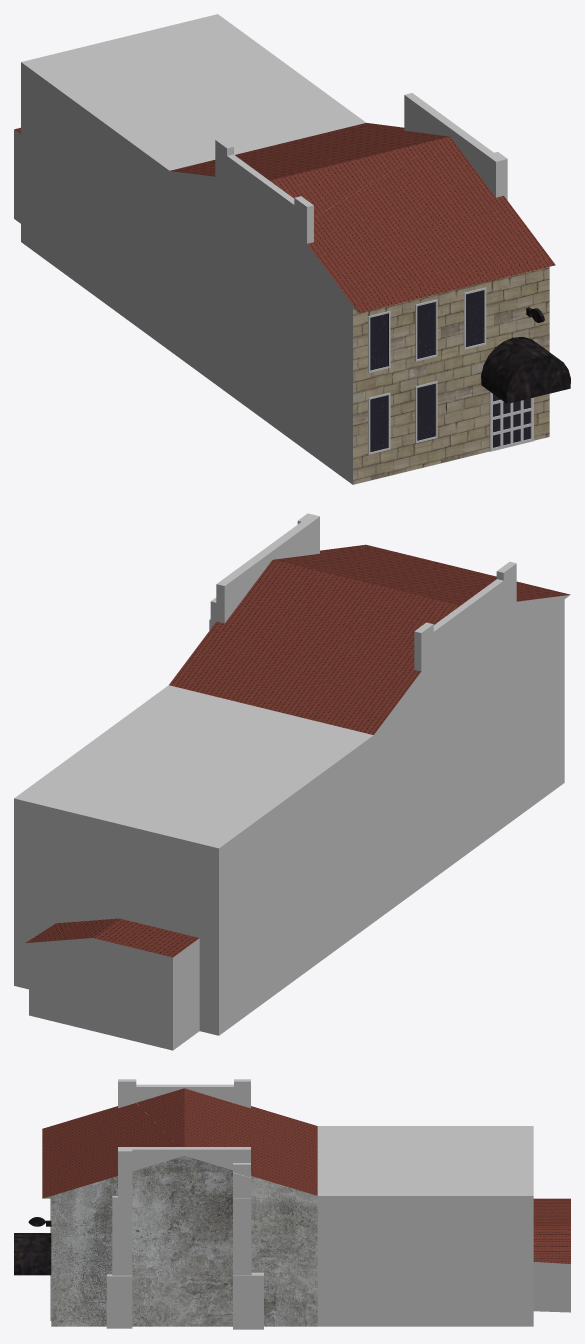
The model's file is 20 Augusta St, Hamilton, ON L8N 1P7.fbx.
The picture shows the model from 3 angles, top to bottom: view 1: azimuth 30°, elevation 25°; view 2: azimuth 150°, elevation 25°; view 3: azimuth 270°, elevation 25°; orthographic projection. The views are drawn at different scales.
Visible parts, largest first — view 1: SketchUp.001; view 2: SketchUp.001; view 3: SketchUp.001.
Part boxes in pixels (box(x1,y1,x2,y2)): SketchUp.001: box(14, 14, 570, 484); SketchUp.001: box(14, 513, 570, 1050); SketchUp.001: box(14, 1079, 570, 1329).
Size of the model in its own units: 494 by 562 by 1597.
